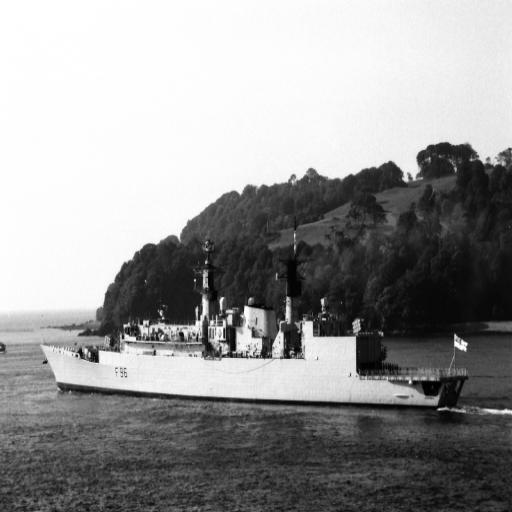Fragata: (40, 225, 476, 421)
